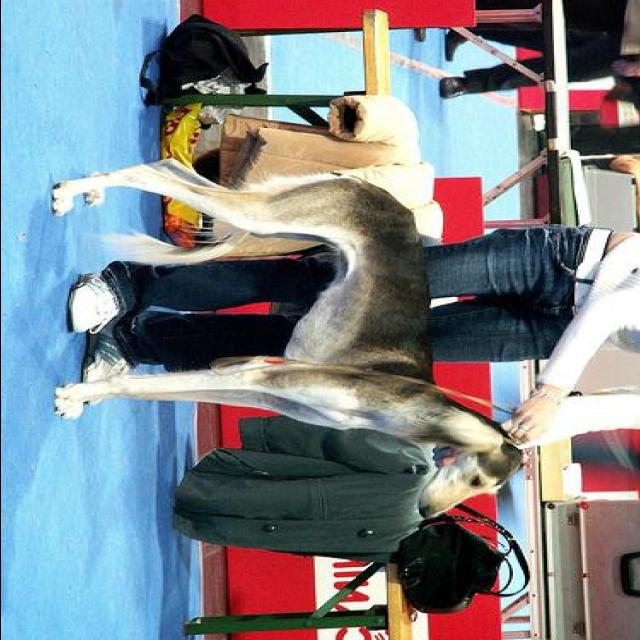saluki: (48, 158, 520, 520)
